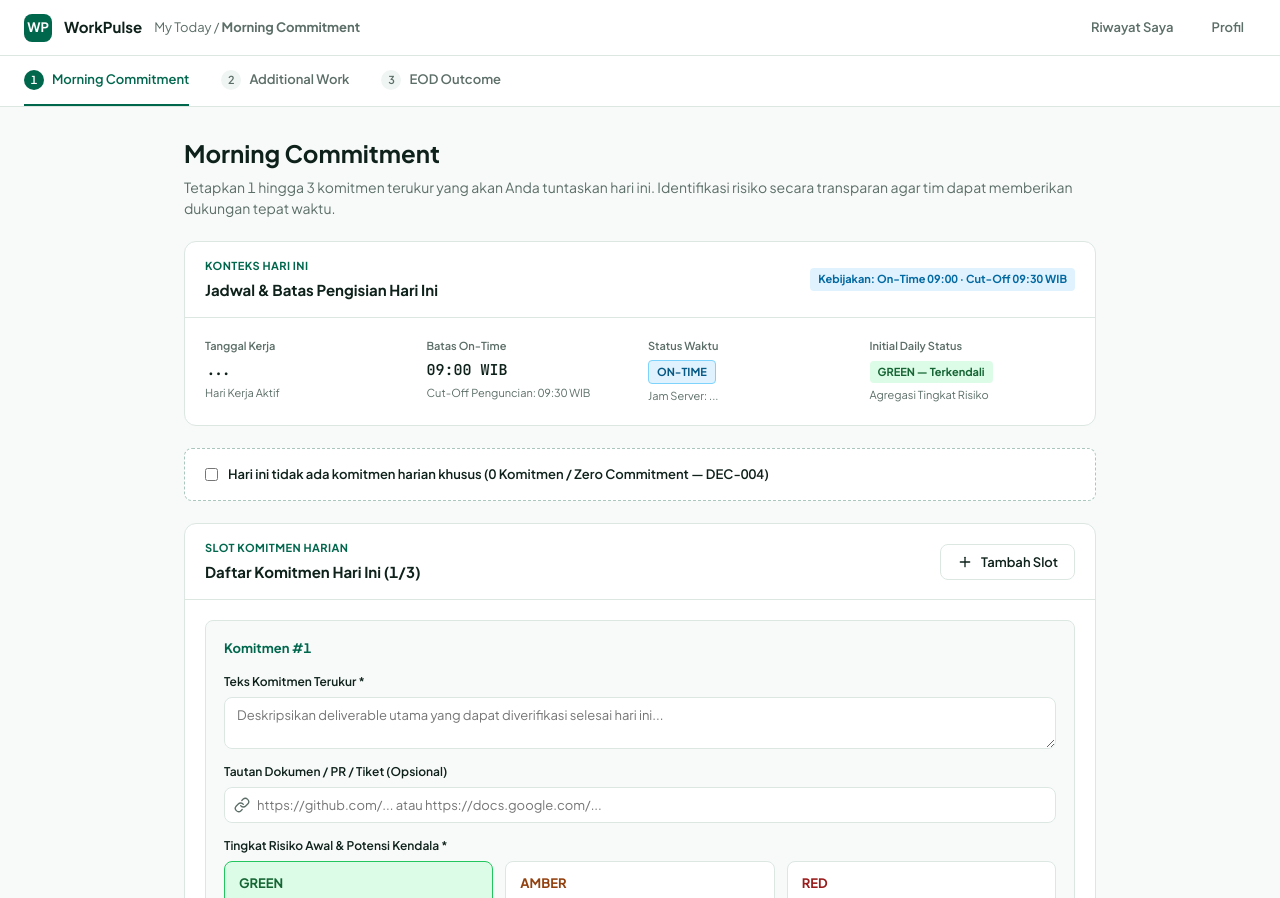
MorningCommitmentView.vue (WP-EP05-TK006 / Prototipe 02) › toggles zero commitment mode on checkbox check (DEC-004)
Click the checkbox: (212, 474) [205,468,218,481]
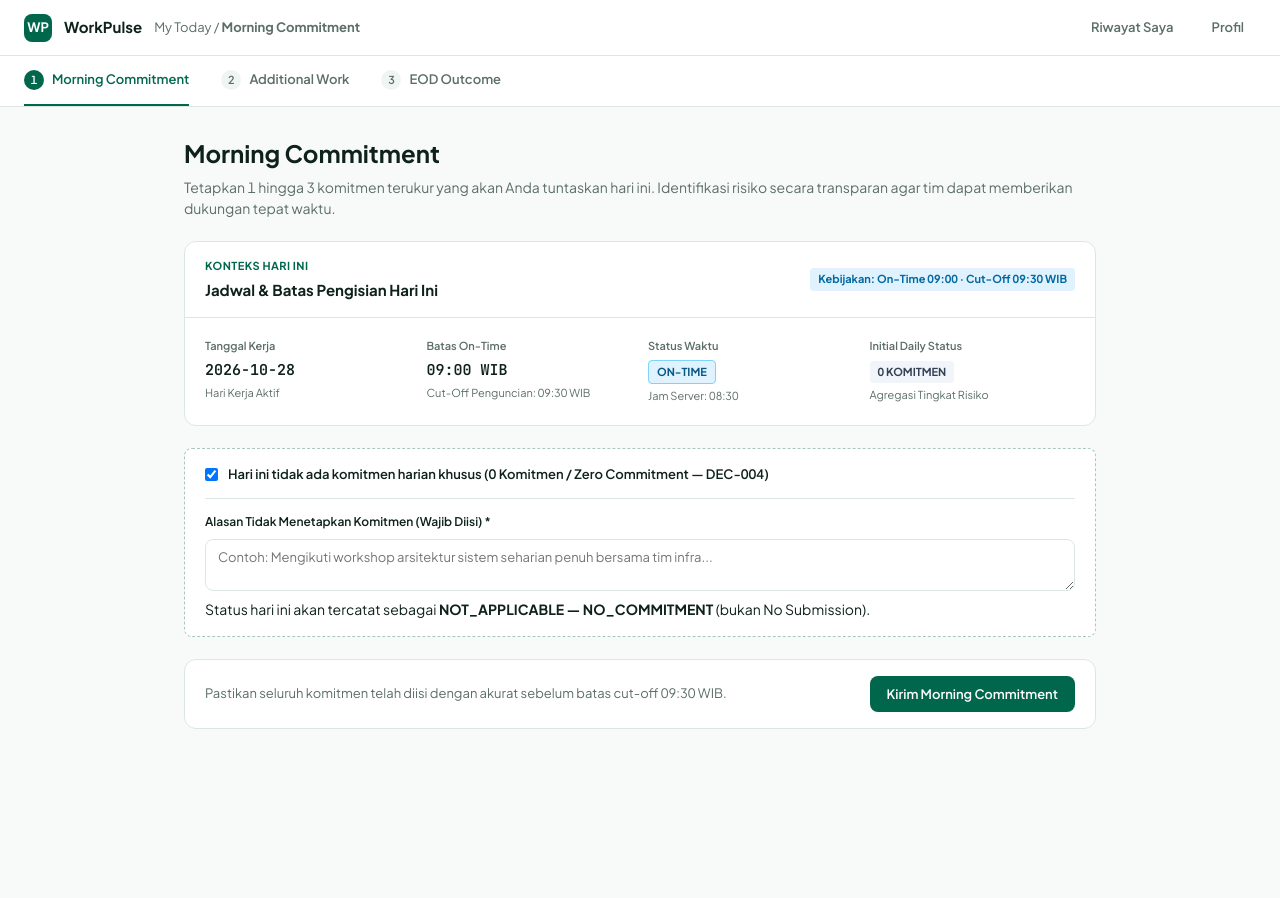
Expected: the text "Alasan Tidak Menetapkan Komitmen" is shown, [205,514,491,529]
Expected: the text "NOT_APPLICABLE — NO_COMMITMENT" is shown, [439,600,713,618]
